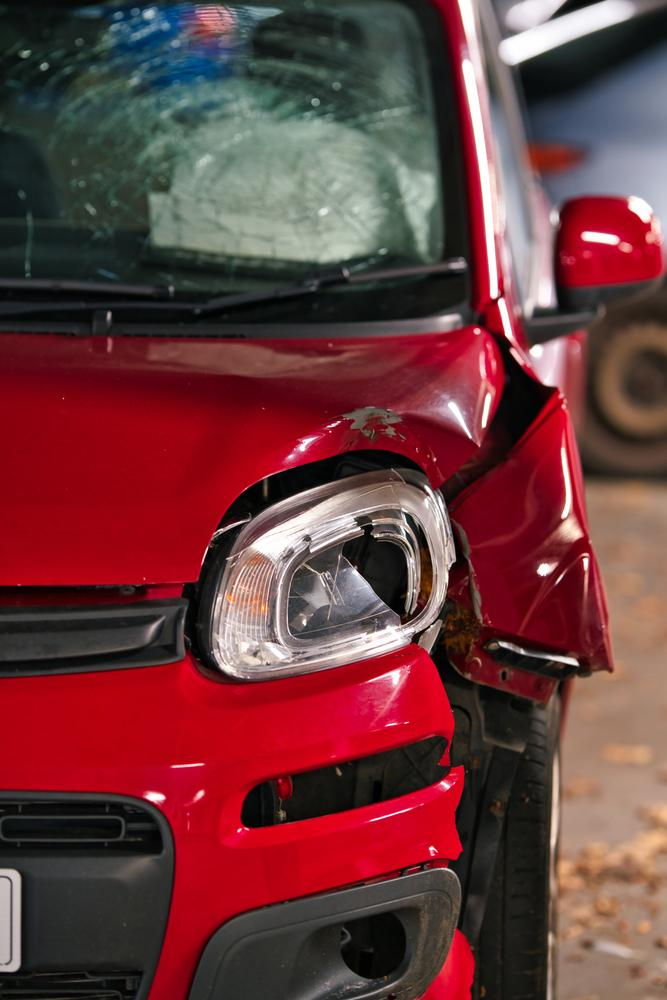dent: (449, 416, 613, 666), (276, 417, 472, 482)
glass shatter: (0, 0, 444, 293)
lamp broken: (211, 474, 462, 677)
